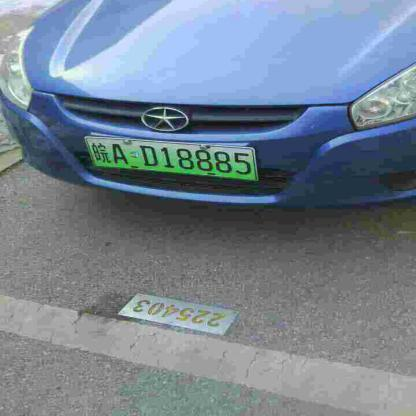lp: (84, 138, 255, 180)
